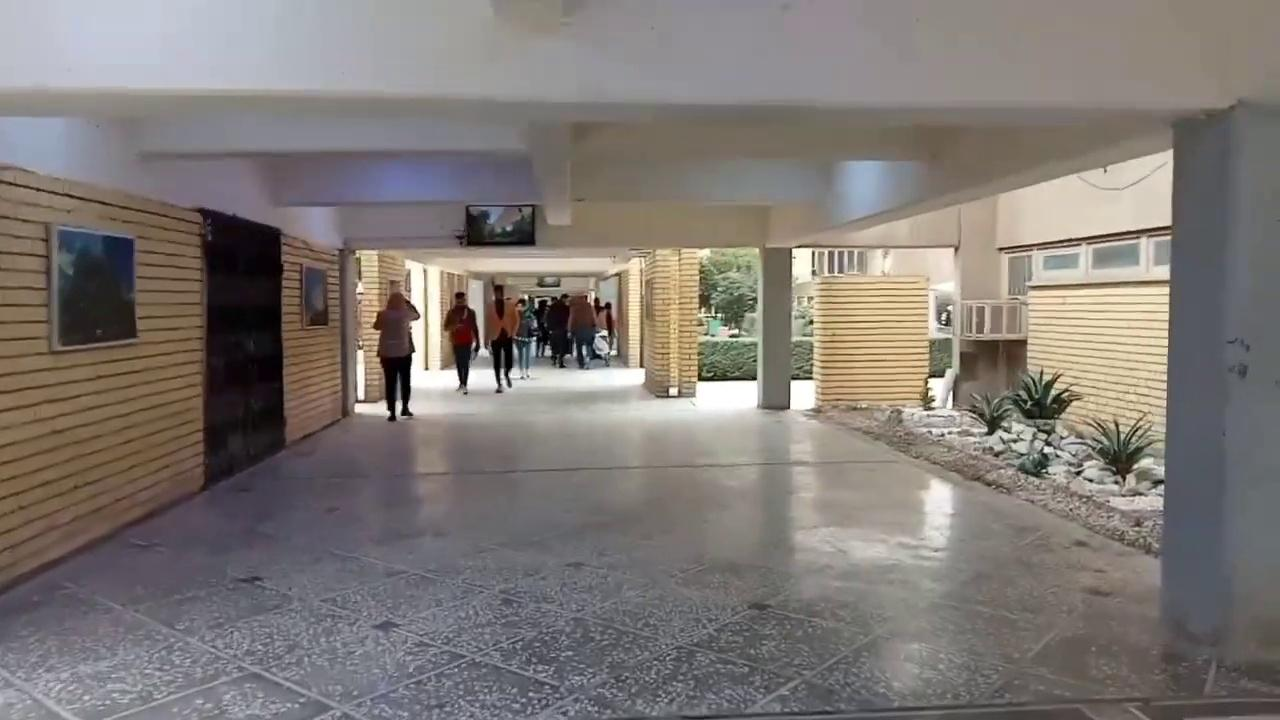fountain: (704, 312, 723, 336)
person: (371, 292, 420, 421), (484, 284, 522, 393), (442, 291, 479, 394)
tree: (1083, 411, 1162, 481), (698, 248, 757, 330), (1008, 365, 1081, 431), (702, 256, 755, 340), (966, 389, 1014, 434), (790, 338, 813, 379), (928, 340, 951, 377)
